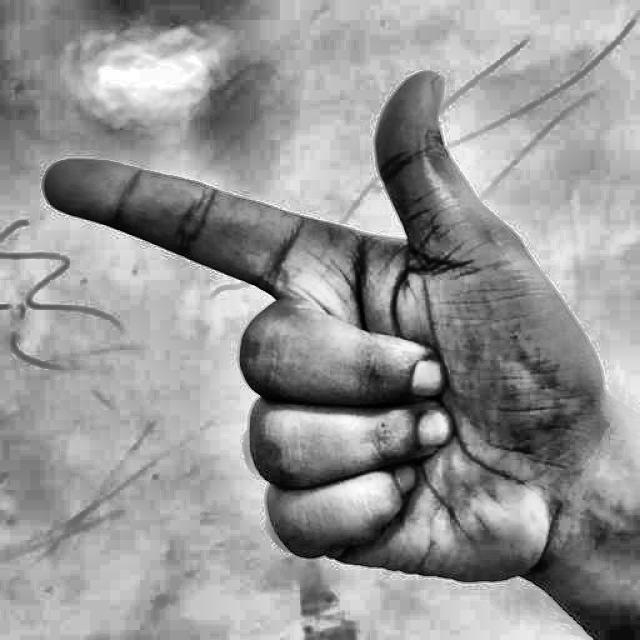Tha: (29, 49, 582, 610)
